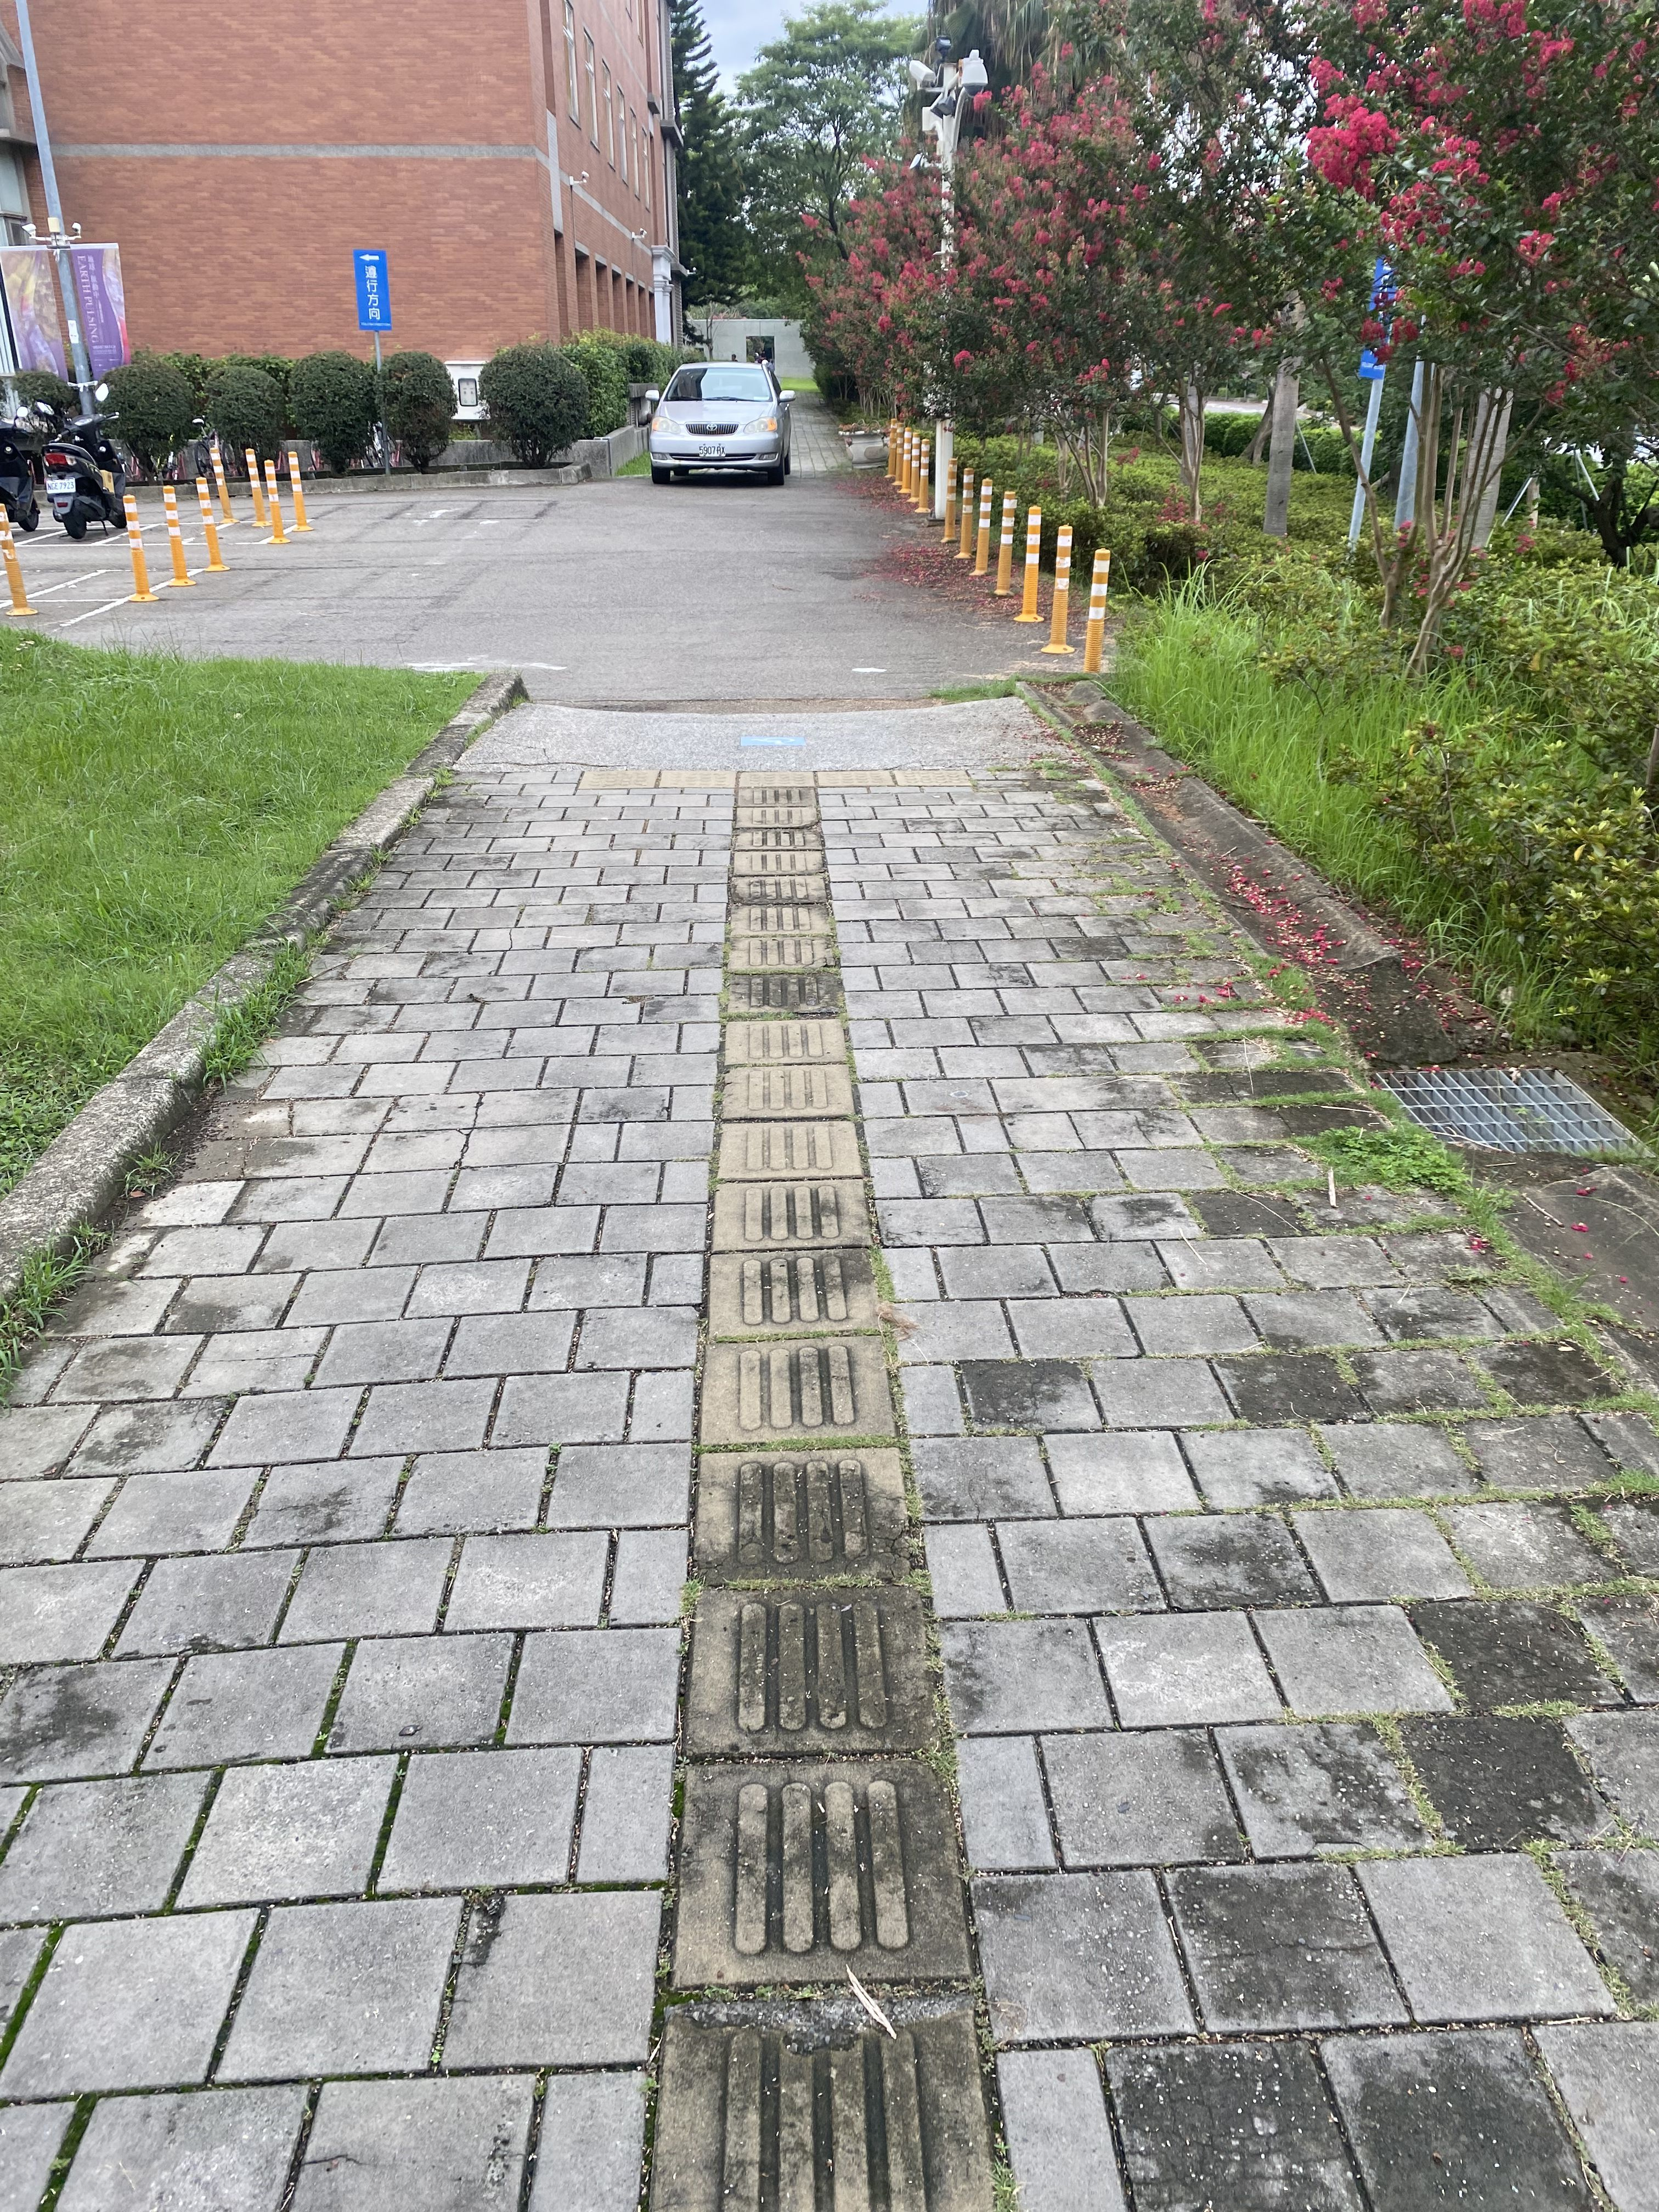0: (5, 763, 1659, 2205)
sidewalk: (525, 374, 1077, 808)
